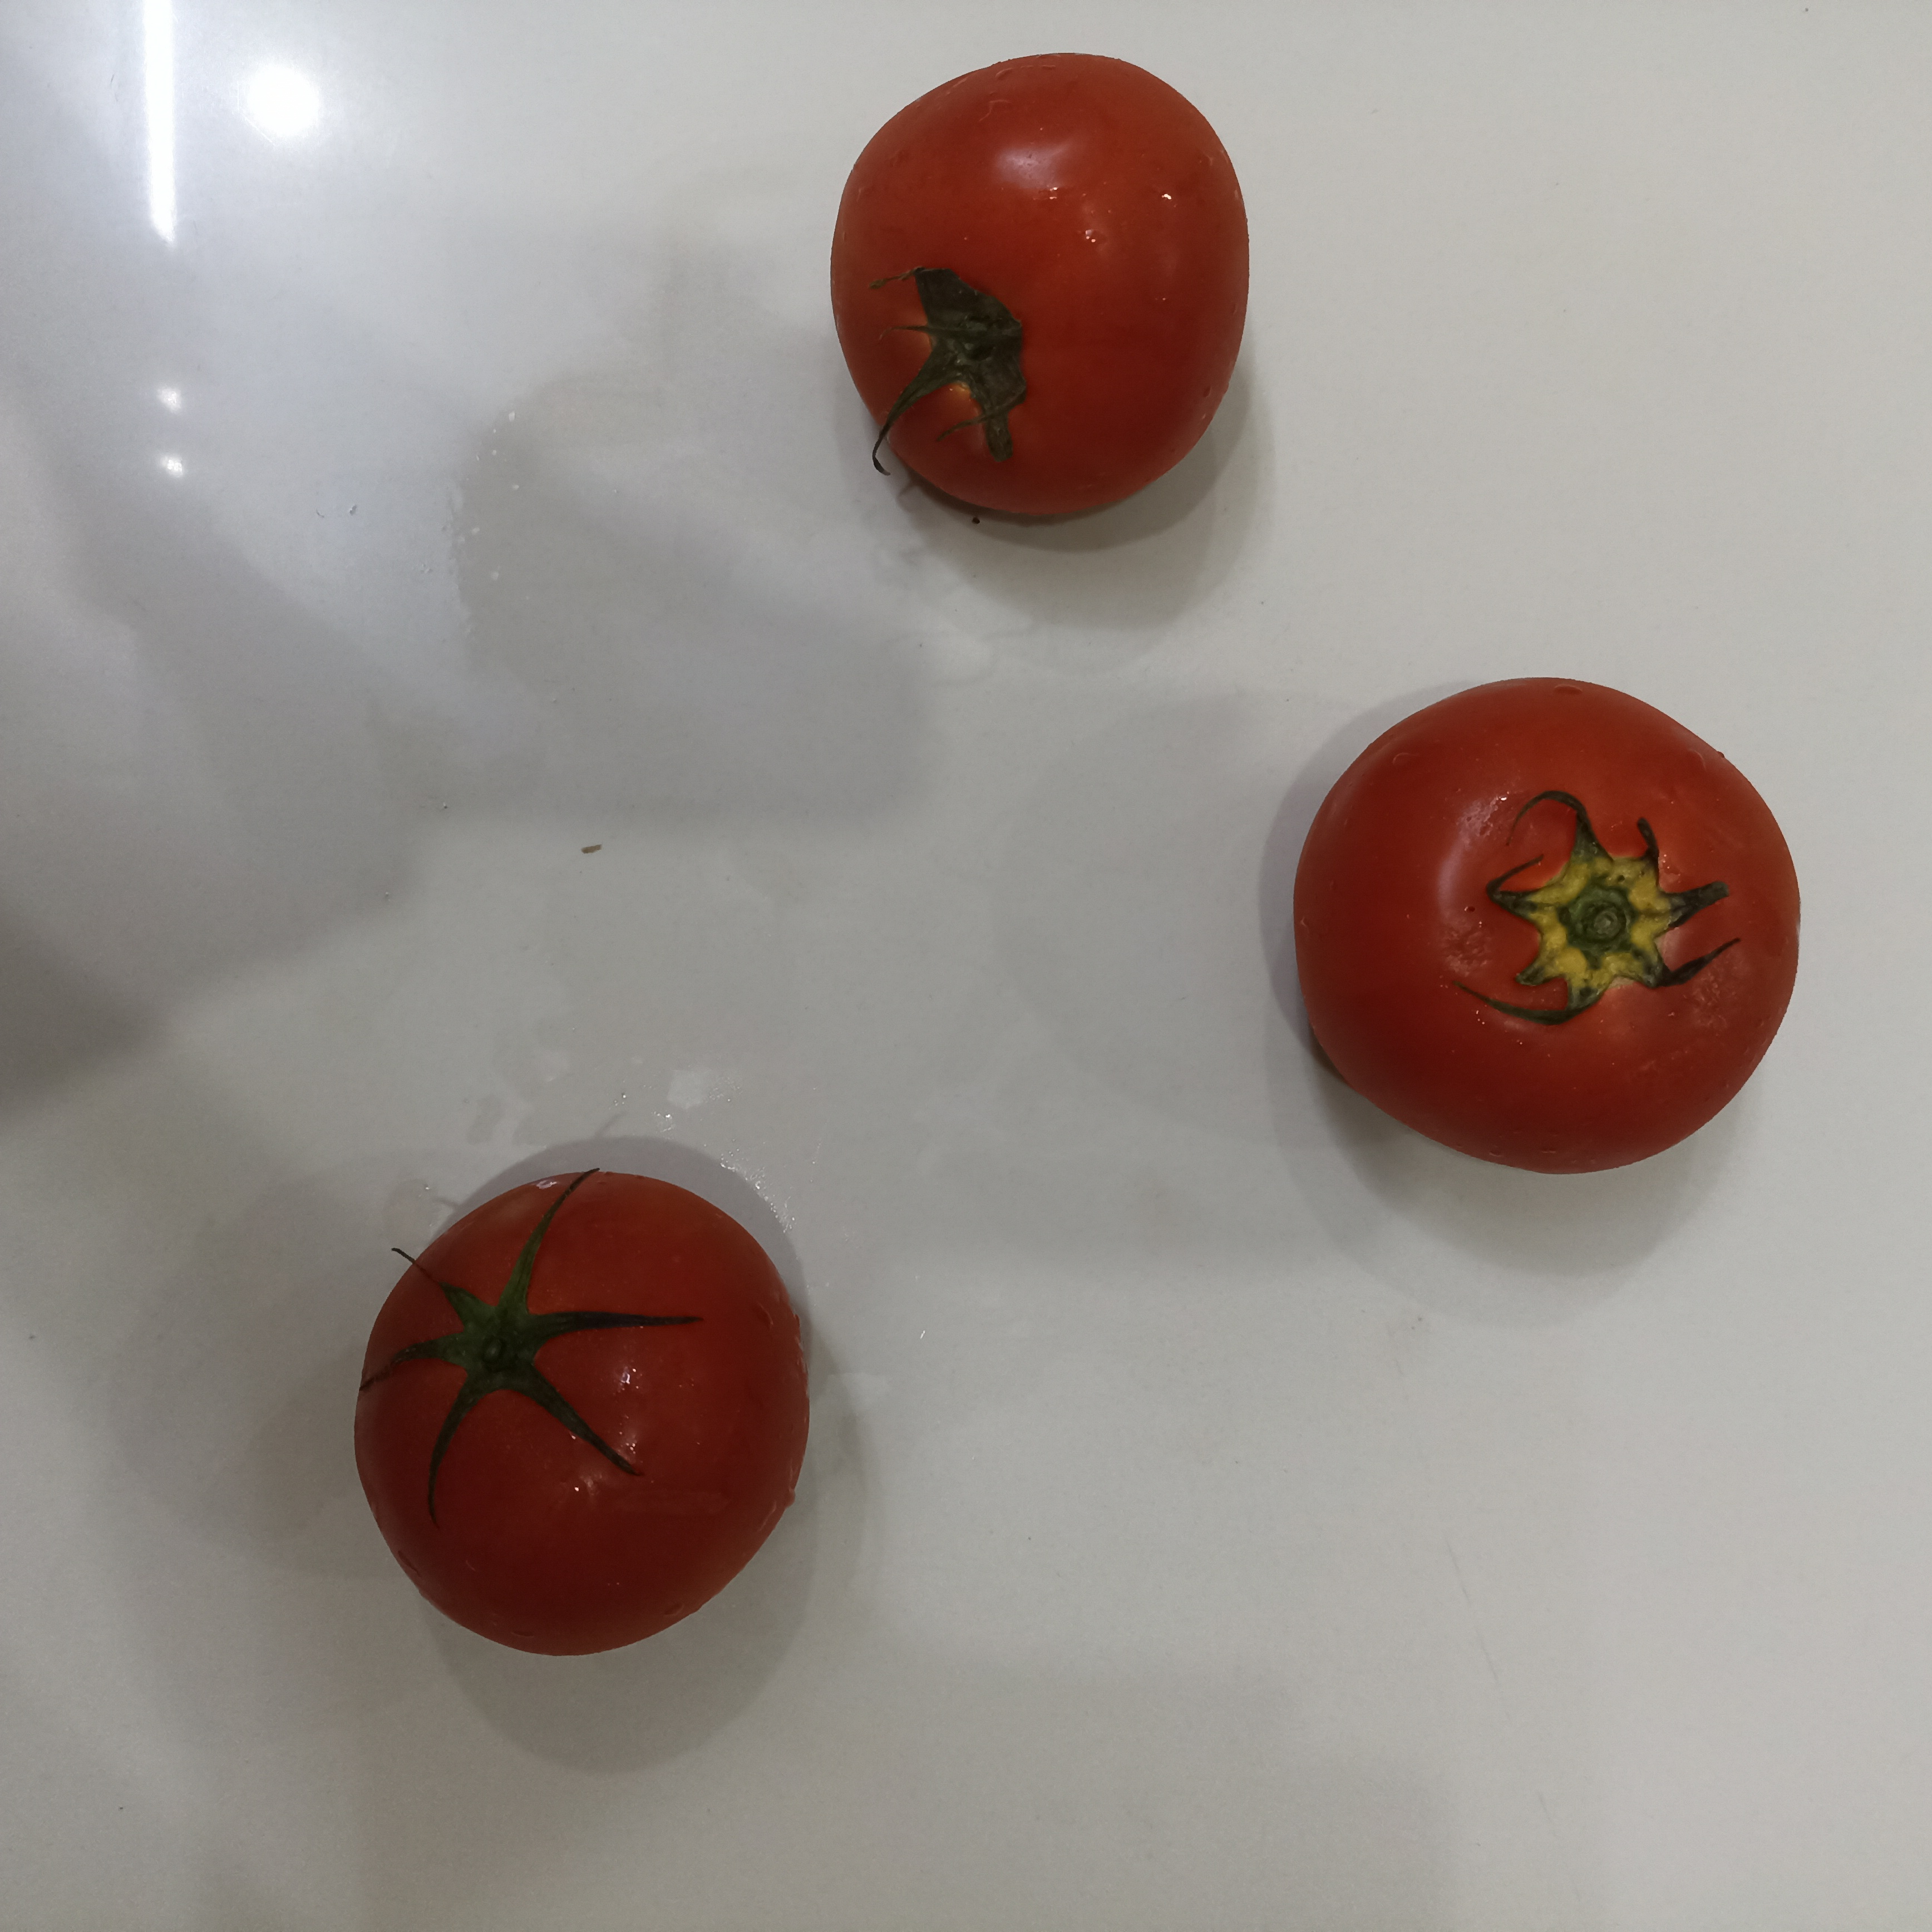Ca chua: (1292, 679, 1798, 1173), (349, 1180, 812, 1658), (828, 51, 1249, 522)
